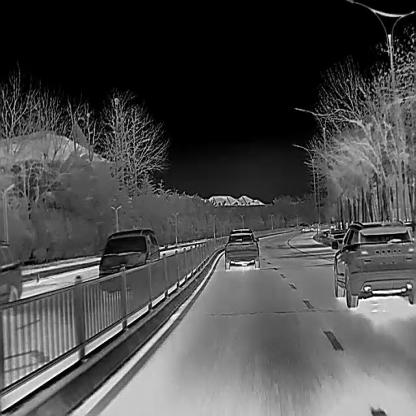car: (333, 217, 415, 307), (98, 225, 159, 295), (0, 237, 23, 319), (222, 226, 260, 271), (301, 222, 309, 232), (312, 221, 320, 231), (287, 223, 296, 230), (297, 222, 304, 231)
